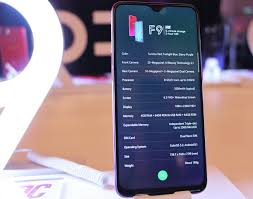oppo: (109, 1, 210, 196)
